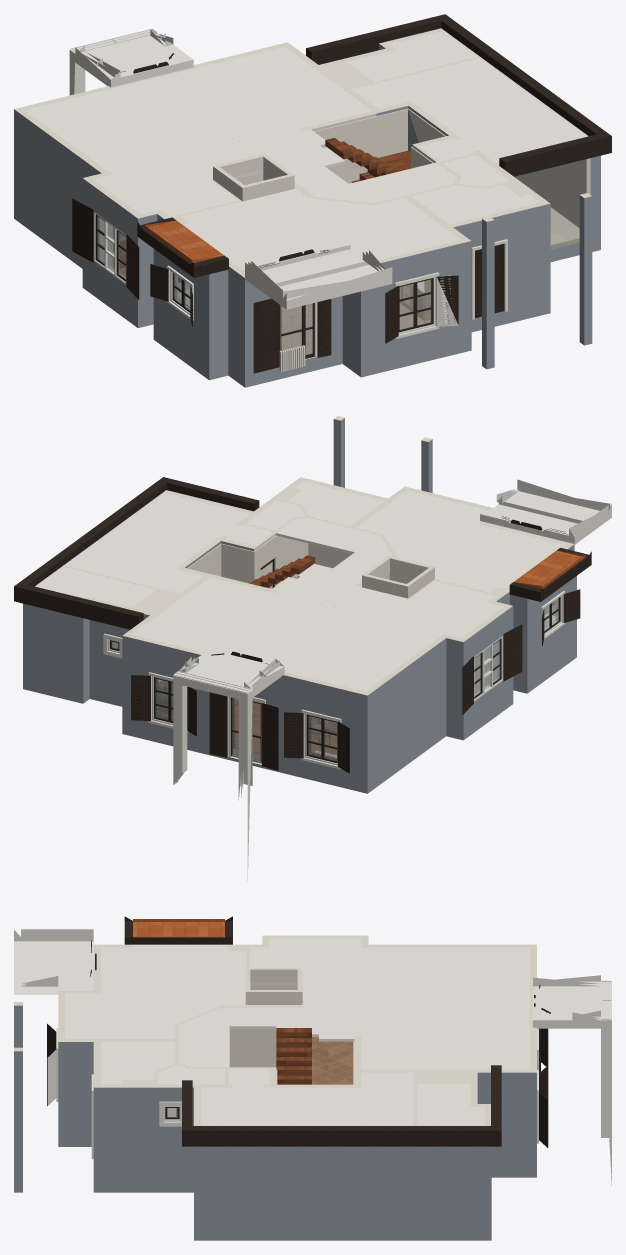
Rendered from villa-f1.glb.
The picture shows the model from 3 angles, top to bottom: view 1: azimuth 30°, elevation 25°; view 2: azimuth 150°, elevation 25°; view 3: azimuth 270°, elevation 25°; orthographic projection. The views are drawn at different scales.
Parts seen in each view (by area): view 1: F1 | KAT 1$TAVAN, F1 | KAT 1$DUVAR, F1 | ek dalgalar, F1 | ÇATI ALIN, F1 | PENCERE_KAPI$SHUTTER, F1 | KAT 1$DUVAR KAPLAMA, F1 | PENCERE_KAPI$CAM, F1 | PENCERE_KAPI$ÇERÇEVE, F1 | KAT 1$ZEMİN KAPLAMA, F1 | ÇATII, F1 | KAT 1$MERDİVEN, F1 | PENCERE_KAPI$CEPHE FRAME (+6 smaller); view 2: F1 | KAT 1$TAVAN, F1 | KAT 1$DUVAR, F1 | ek dalgalar, F1 | PENCERE_KAPI$SHUTTER, F1 | ÇATI ALIN, F1 | KAT 1$DUVAR KAPLAMA, F1 | PENCERE_KAPI$CAM, F1 | PENCERE_KAPI$ÇERÇEVE, F1 | PENCERE_KAPI$ÇEPHE ÇERÇECE, F1 | PENCERE_KAPI$CEPHE FRAME, F1 | ÇATII, F1 | KAT 1$ZEMİN KAPLAMA (+2 smaller); view 3: F1 | KAT 1$TAVAN, F1 | KAT 1$DUVAR, F1 | ek dalgalar, F1 | ÇATI ALIN, F1 | KAT 1$DUVAR KAPLAMA, F1 | KAT 1$MERDİVEN, F1 | PENCERE_KAPI$SHUTTER, F1 | KAT 1$ZEMİN KAPLAMA, F1 | ÇATII, F1 | PENCERE_KAPI$CEPHE FRAME, Lift shaft side wall.003, Lift shaft side wall.002.
Boxes of the visible parts, left/top/right/bottom form: F1 | KAT 1$TAVAN: left=24, top=31, right=586, bottom=271; F1 | KAT 1$DUVAR: left=14, top=28, right=600, bottom=387; F1 | ek dalgalar: left=69, top=28, right=392, bottom=309; F1 | ÇATI ALIN: left=137, top=14, right=611, bottom=277; F1 | PENCERE_KAPI$SHUTTER: left=72, top=57, right=458, bottom=373; F1 | KAT 1$DUVAR KAPLAMA: left=100, top=108, right=590, bottom=308; F1 | PENCERE_KAPI$CAM: left=97, top=216, right=431, bottom=354; F1 | PENCERE_KAPI$ÇERÇEVE: left=95, top=61, right=433, bottom=358; F1 | KAT 1$ZEMİN KAPLAMA: left=113, top=207, right=579, bottom=354; F1 | ÇATII: left=144, top=220, right=223, bottom=262; F1 | KAT 1$MERDİVEN: left=325, top=138, right=410, bottom=182; F1 | PENCERE_KAPI$CEPHE FRAME: left=167, top=239, right=507, bottom=356; F1 | KAT 1$TAVAN: left=36, top=481, right=565, bottom=691; F1 | KAT 1$DUVAR: left=23, top=416, right=576, bottom=793; F1 | ek dalgalar: left=173, top=479, right=611, bottom=880; F1 | PENCERE_KAPI$SHUTTER: left=131, top=516, right=580, bottom=773; F1 | ÇATI ALIN: left=14, top=477, right=591, bottom=629; F1 | KAT 1$DUVAR KAPLAMA: left=112, top=535, right=555, bottom=695; F1 | PENCERE_KAPI$CAM: left=112, top=598, right=558, bottom=760; F1 | PENCERE_KAPI$ÇERÇEVE: left=110, top=519, right=560, bottom=763; F1 | PENCERE_KAPI$ÇEPHE ÇERÇECE: left=108, top=521, right=562, bottom=765; F1 | PENCERE_KAPI$CEPHE FRAME: left=103, top=520, right=565, bottom=769; F1 | ÇATII: left=514, top=550, right=585, bottom=588; F1 | KAT 1$ZEMİN KAPLAMA: left=163, top=678, right=485, bottom=761; F1 | KAT 1$TAVAN: left=65, top=938, right=529, bottom=1125; F1 | KAT 1$DUVAR: left=14, top=935, right=536, bottom=1240; F1 | ek dalgalar: left=14, top=929, right=611, bottom=1185; F1 | ÇATI ALIN: left=124, top=916, right=501, bottom=1146; F1 | KAT 1$DUVAR KAPLAMA: left=167, top=985, right=354, bottom=1116; F1 | KAT 1$MERDİVEN: left=276, top=1028, right=311, bottom=1084; F1 | PENCERE_KAPI$SHUTTER: left=47, top=941, right=548, bottom=1147; F1 | KAT 1$ZEMİN KAPLAMA: left=312, top=1037, right=353, bottom=1084; F1 | ÇATII: left=133, top=919, right=224, bottom=937; F1 | PENCERE_KAPI$CEPHE FRAME: left=56, top=951, right=538, bottom=1159; Lift shaft side wall.003: left=245, top=990, right=302, bottom=1004; Lift shaft side wall.002: left=245, top=967, right=302, bottom=982.
Size of the model in its own units: 13.99 by 7.37 by 16.87.
Materials: 30 (30 with a texture image).
